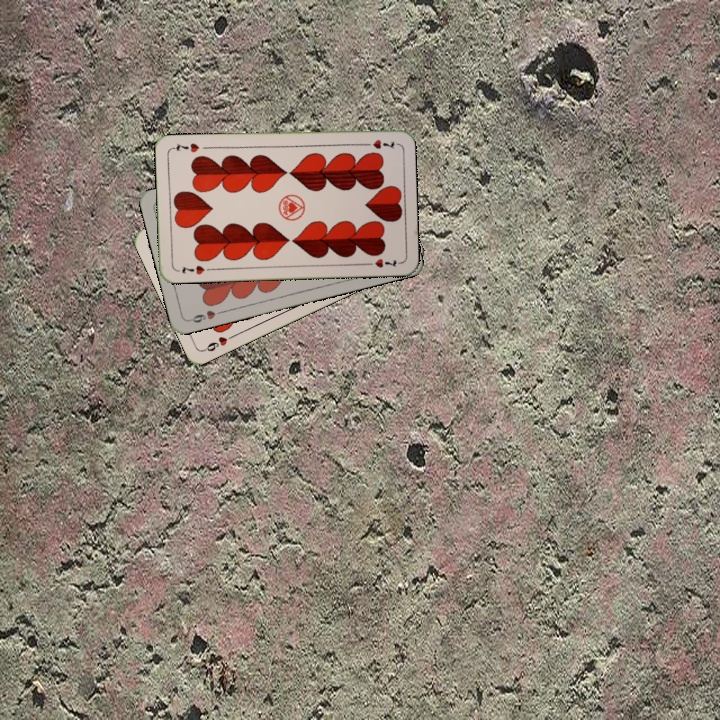H7: (358, 135, 397, 151), (178, 261, 207, 277)
H9: (200, 330, 238, 354), (184, 306, 224, 325)
